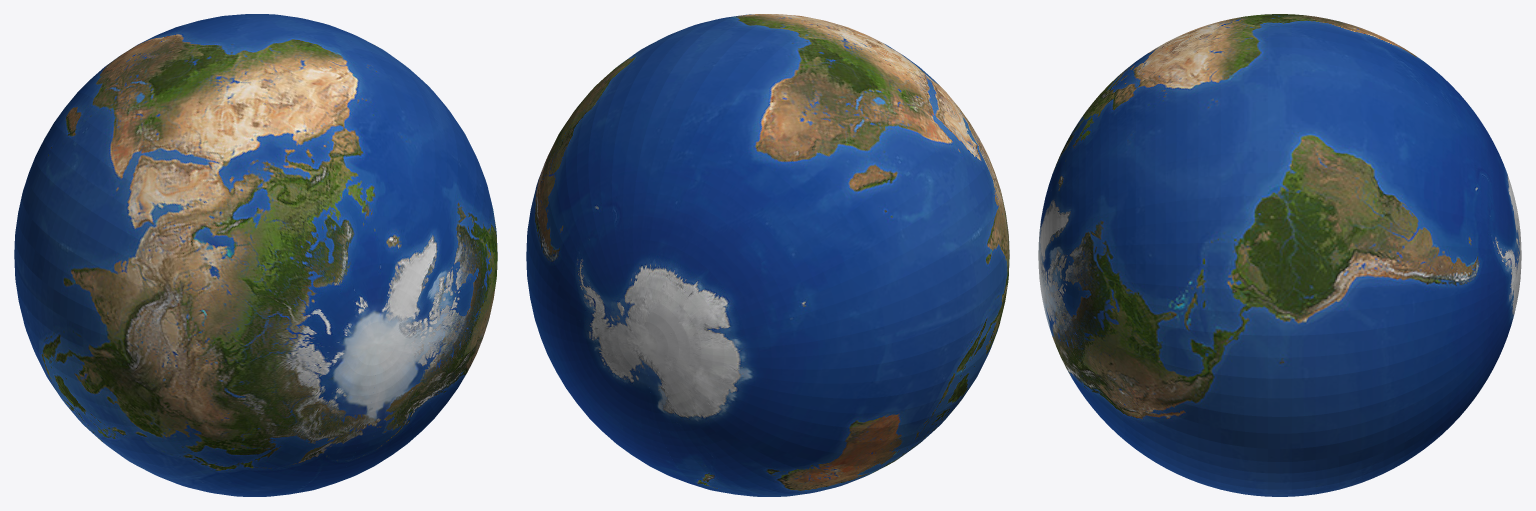
The model's file is Tierra.obj.
3 views of the same model, side by side, from view 1: azimuth 30°, elevation 25°; view 2: azimuth 150°, elevation 25°; view 3: azimuth 270°, elevation 25° (orthographic).
Parts seen in each view (by area): view 1: Plane; view 2: Plane; view 3: Plane.
Boxes of the visible parts, bbox=[...] form: Plane: bbox=[14, 14, 497, 496]; Plane: bbox=[526, 14, 1009, 496]; Plane: bbox=[1038, 14, 1521, 496].
Size of the model in its own units: 5.21 by 5.21 by 5.21.
1 material, 1 textured.
